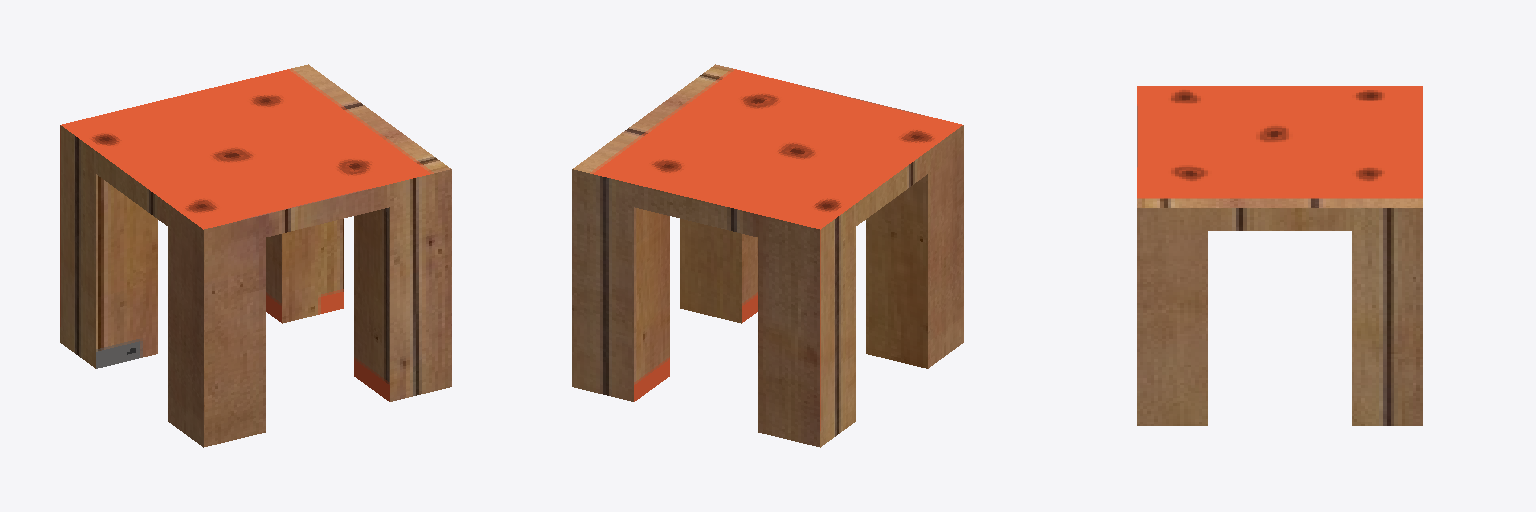
3 renders of one model, left to right at view 1: azimuth 30°, elevation 25°; view 2: azimuth 150°, elevation 25°; view 3: azimuth 270°, elevation 25°, orthographic.
Parts seen in each view (by area): view 1: pCube1; view 2: pCube1; view 3: pCube1.
Boxes of the visible parts, box(x1,y1,x2,y2) form: pCube1: box(60, 64, 451, 447); pCube1: box(572, 64, 963, 447); pCube1: box(1137, 86, 1422, 425).
Bounding box in the file's own units: 1 × 0.8398 × 1.
1 materials, 1 textured.